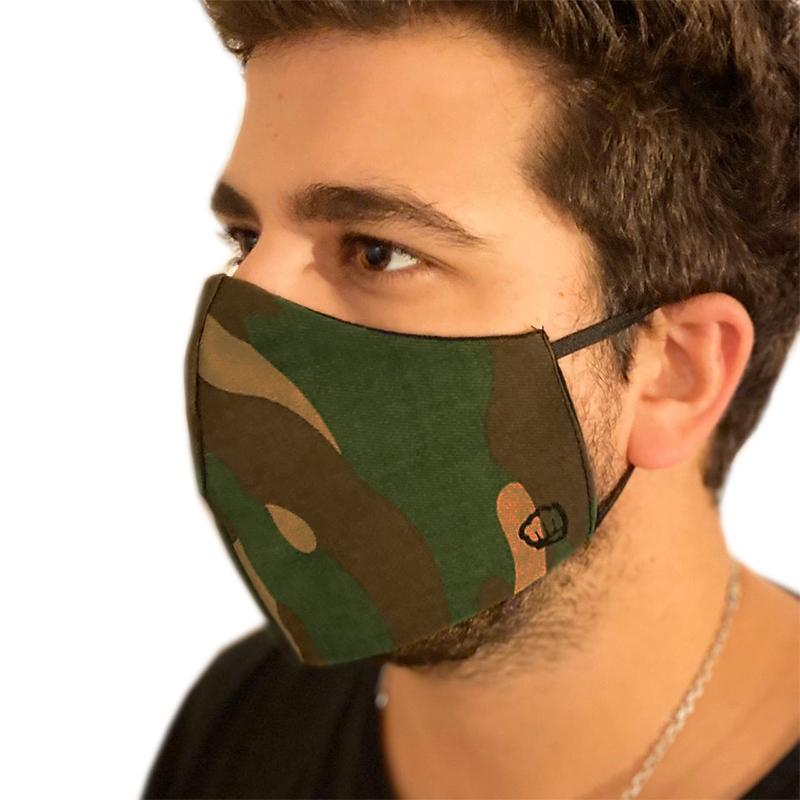barbijo: (160, 250, 661, 663)
